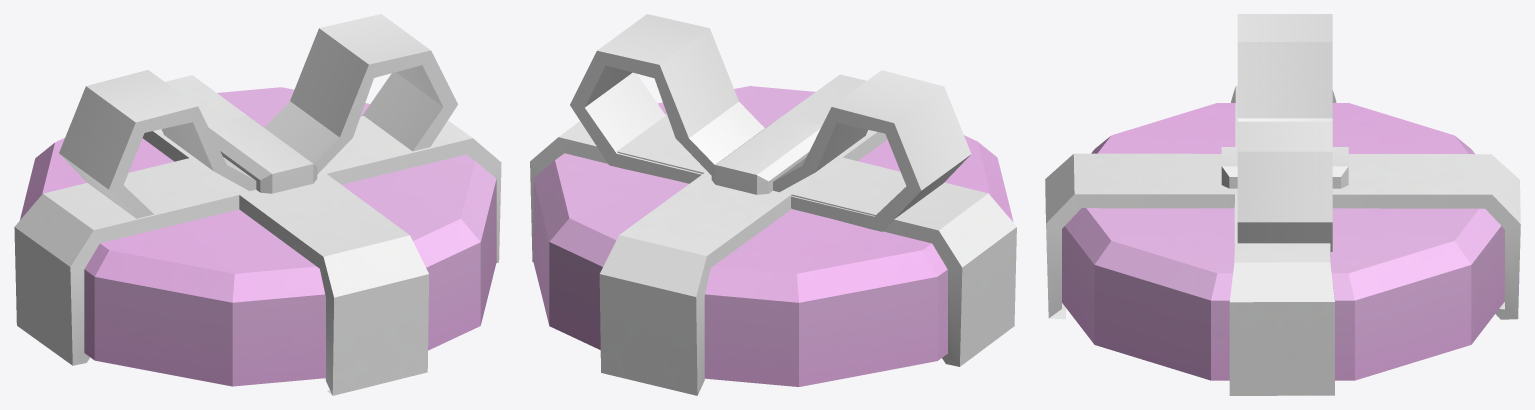
Rendered from GiftBoxCover.obj.
The picture shows the model from 3 angles, left to right: view 1: azimuth 30°, elevation 25°; view 2: azimuth 150°, elevation 25°; view 3: azimuth 270°, elevation 25°; orthographic projection. The views are drawn at different scales.
Parts seen in each view (by area): view 1: Christmas_Present_02_Mesh.009; view 2: Christmas_Present_02_Mesh.009; view 3: Christmas_Present_02_Mesh.009.
Part boxes in pixels (x1,y1,x2,y2): Christmas_Present_02_Mesh.009: [14, 14, 501, 395]; Christmas_Present_02_Mesh.009: [530, 14, 1016, 395]; Christmas_Present_02_Mesh.009: [1045, 14, 1520, 395].
Size of the model in its own units: 2.99 by 1.51 by 2.99.
